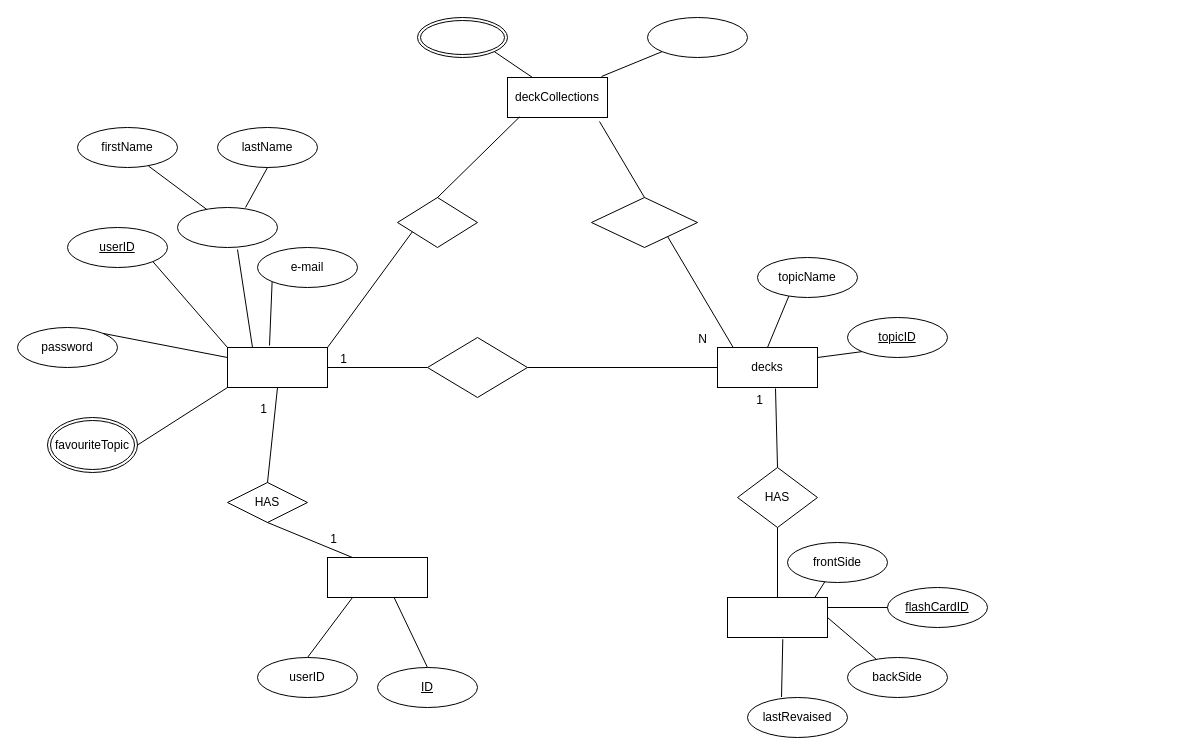
Some shapes in this 1195 by 755 pixel diagram are drawn without their labels. Here are the shapes that lost their labels. From the top down, the centre of each, then its label:
At (x=462, y=37): "topics".
At (x=697, y=37): "collectionID".
At (x=227, y=227): "name".
At (x=437, y=222): "HAVE".
At (x=644, y=222): "BELONGS_TO".
At (x=277, y=367): "User".
At (x=477, y=367): "creates".
At (x=377, y=577): "Statistics".
At (x=777, y=617): "flashCard".
